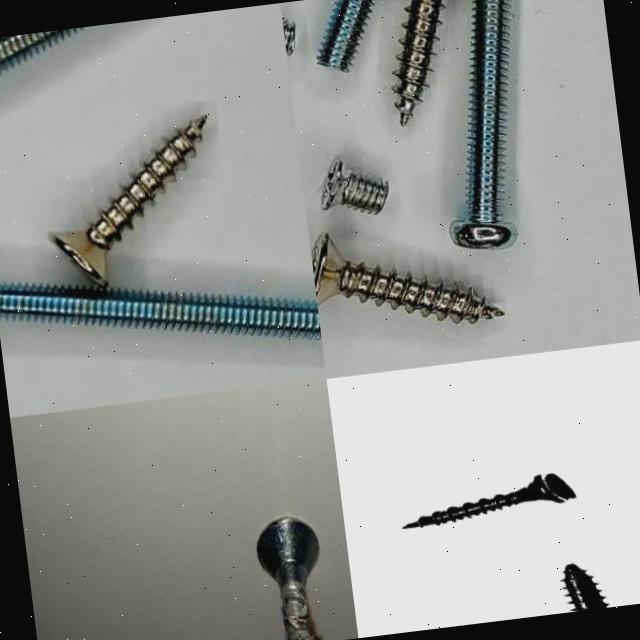Screw: (50, 115, 207, 287), (0, 284, 322, 341), (311, 234, 504, 323), (450, 0, 517, 249), (388, 464, 597, 540), (257, 518, 319, 640), (393, 0, 443, 126), (318, 0, 374, 71), (0, 27, 84, 73), (321, 158, 388, 213), (561, 564, 607, 611)
